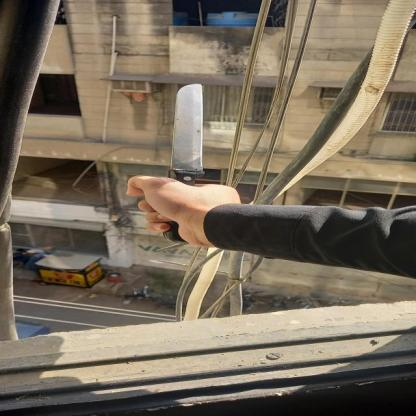Knife: (166, 84, 204, 243)
